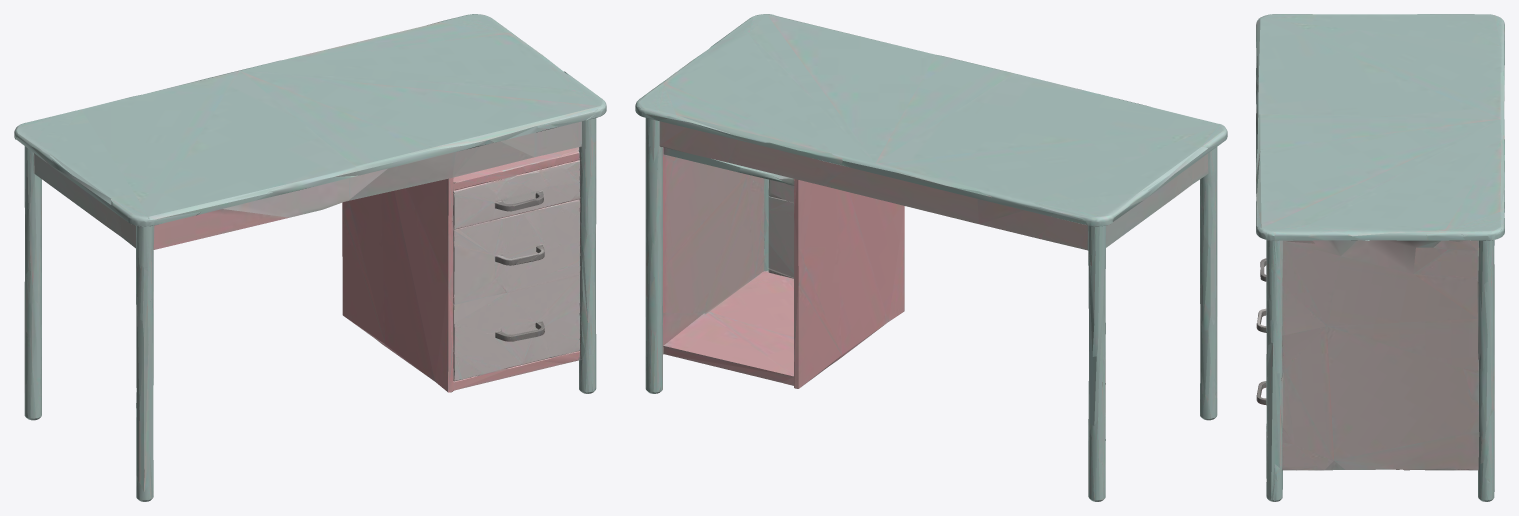
Rendered from scrivania_B.glb.
3 renders of one model, left to right at view 1: azimuth 30°, elevation 25°; view 2: azimuth 150°, elevation 25°; view 3: azimuth 270°, elevation 25°, orthographic. The views are drawn at different scales.
Visible parts, largest first — view 1: Mesh_0; view 2: Mesh_0; view 3: Mesh_0.
Part boxes in pixels (x1,y1,x2,y2): Mesh_0: [14, 14, 606, 501]; Mesh_0: [635, 14, 1227, 501]; Mesh_0: [1256, 14, 1504, 501].
Bounding box in the file's own units: 1.4 × 0.812 × 0.6677.
1 material, 1 textured.
